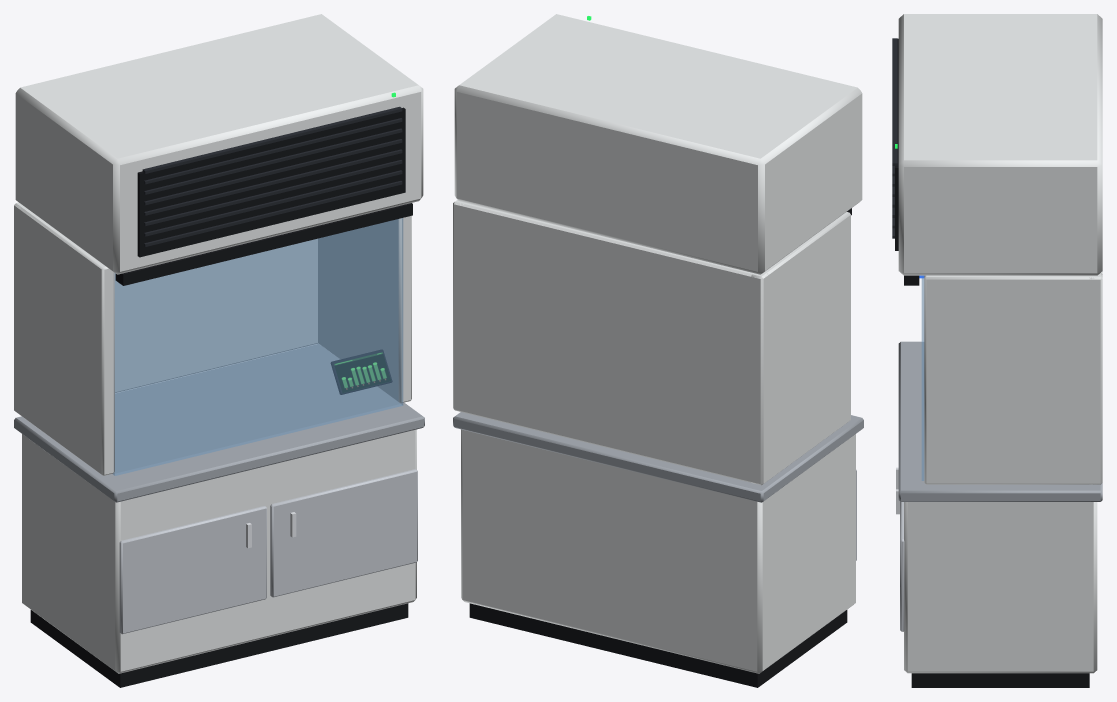
File: labbench_laminar_flow_bench.glb
The picture shows the model from 3 angles, left to right: view 1: azimuth 30°, elevation 25°; view 2: azimuth 150°, elevation 25°; view 3: azimuth 270°, elevation 25°; orthographic projection.
Visible parts, largest first — view 1: labbench_laminar_flow_bench; view 2: labbench_laminar_flow_bench; view 3: labbench_laminar_flow_bench.
Boxes of the visible parts, <box> form: labbench_laminar_flow_bench: <box>14,14,424,687</box>; labbench_laminar_flow_bench: <box>453,14,863,687</box>; labbench_laminar_flow_bench: <box>892,14,1102,687</box>.
Size of the model in its own units: 1.4 by 2.31 by 0.825.
